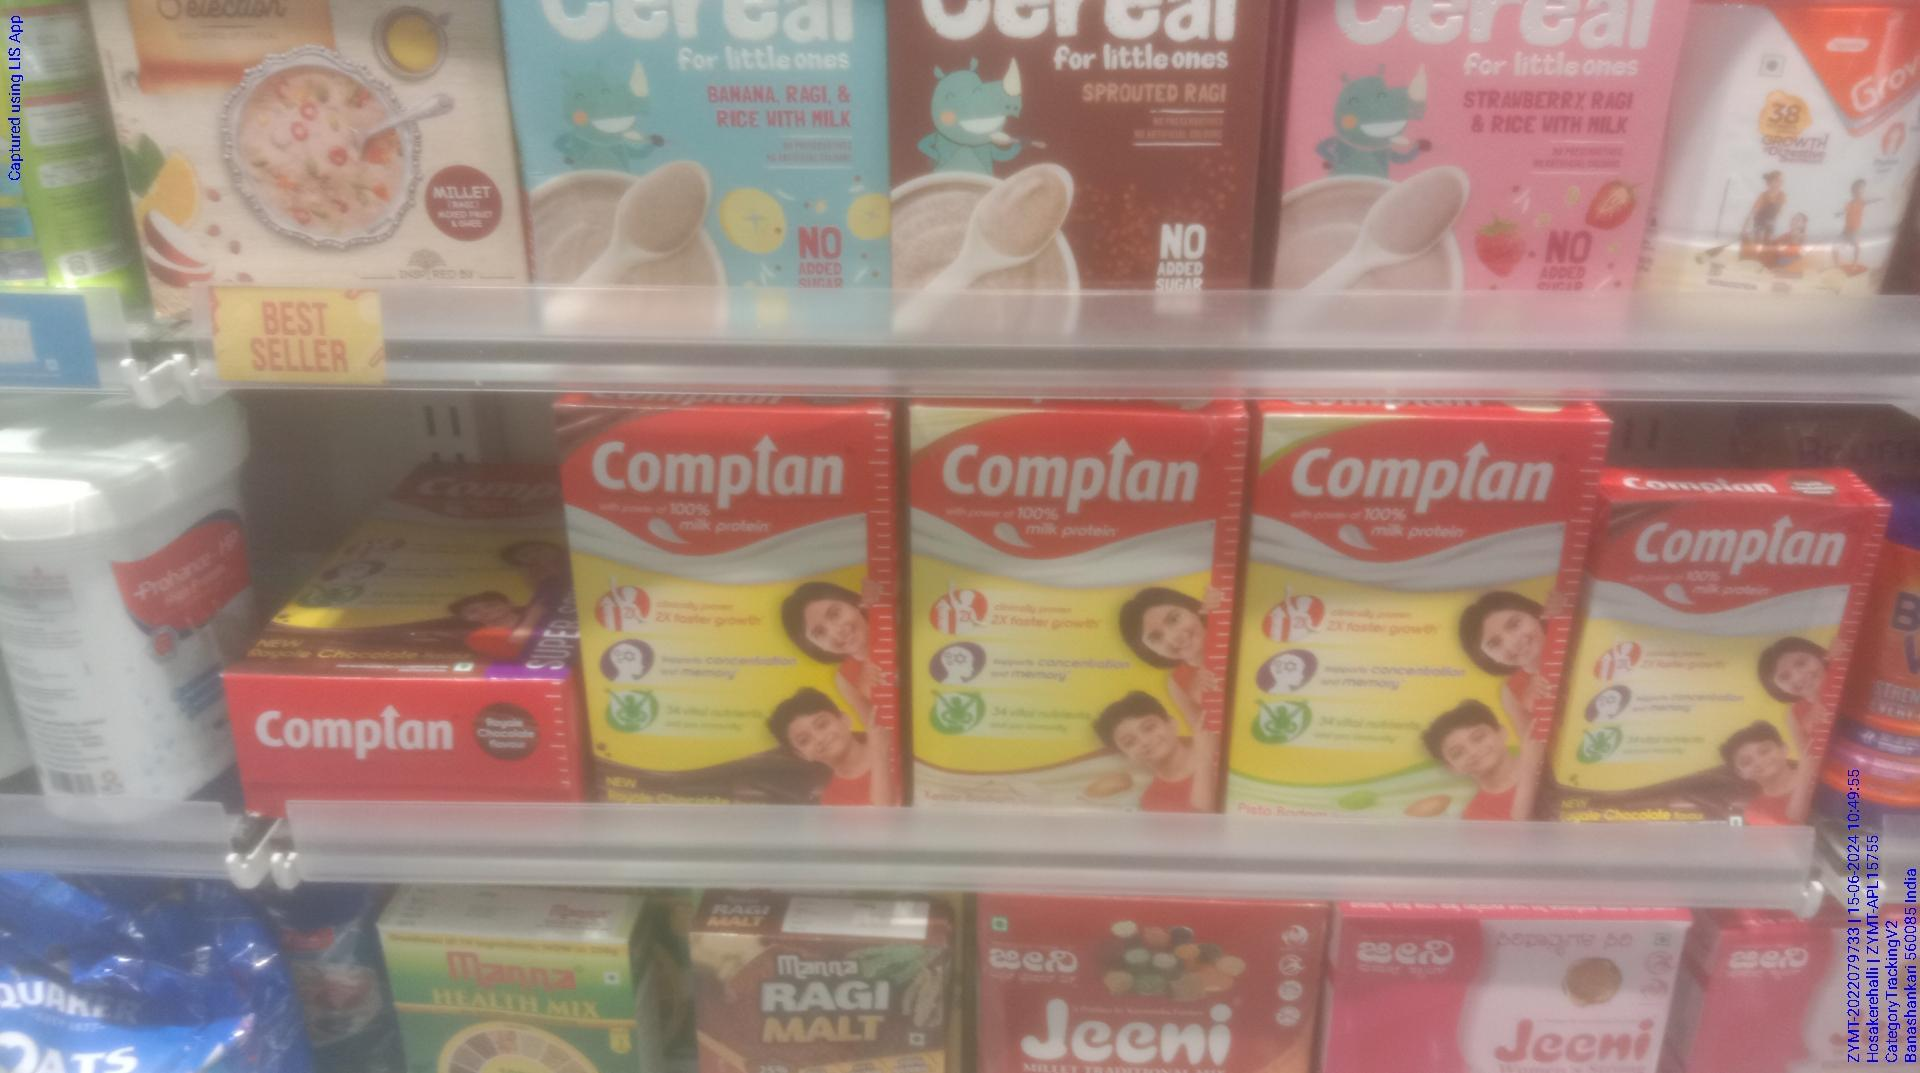COMPLAN_CHOCOLATE_200_GMS_PACK: (1584, 481, 1851, 823)
COMPLAN_CHOCOLATE_500_GMS_PACK: (580, 403, 891, 808)
COMPLAN_KESAR_BADAM_500_GMS_PACK: (909, 407, 1228, 826)
COMPLAN_PISTA_BADAM_500_GMS_PACK: (1245, 415, 1564, 816)
